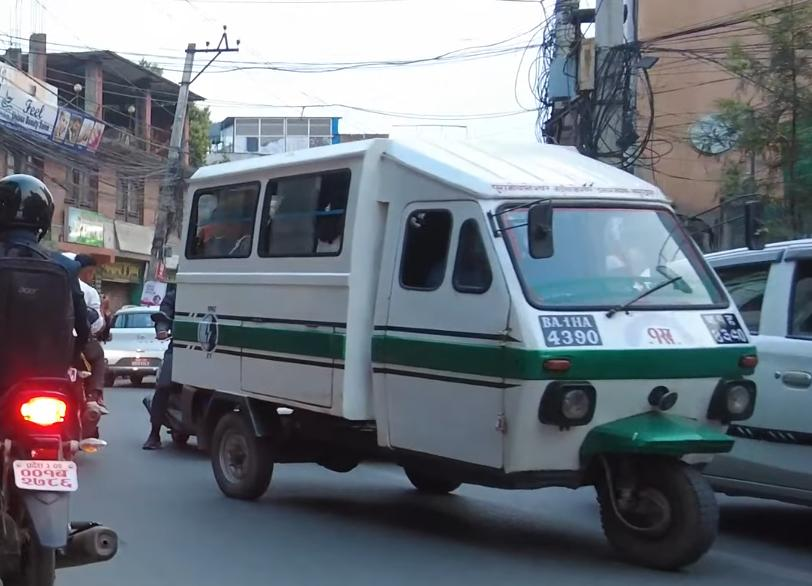bike: (0, 299, 119, 586)
car: (98, 300, 184, 388)
tempo: (158, 132, 759, 575)
